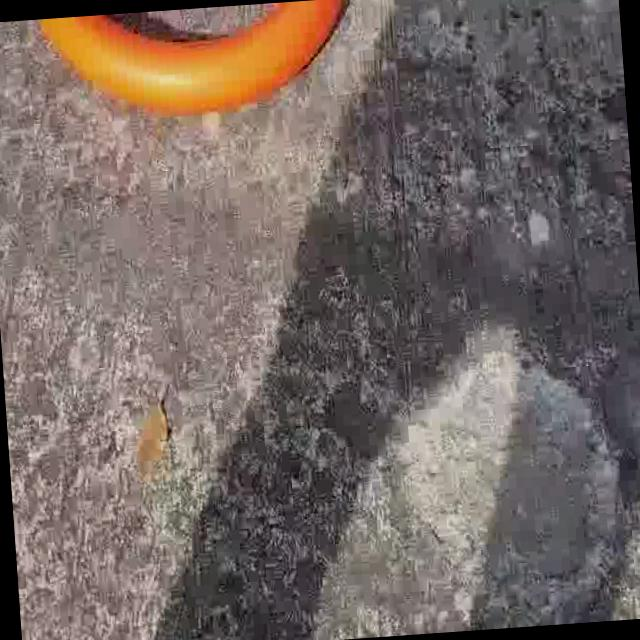note: (35, 0, 355, 141)
